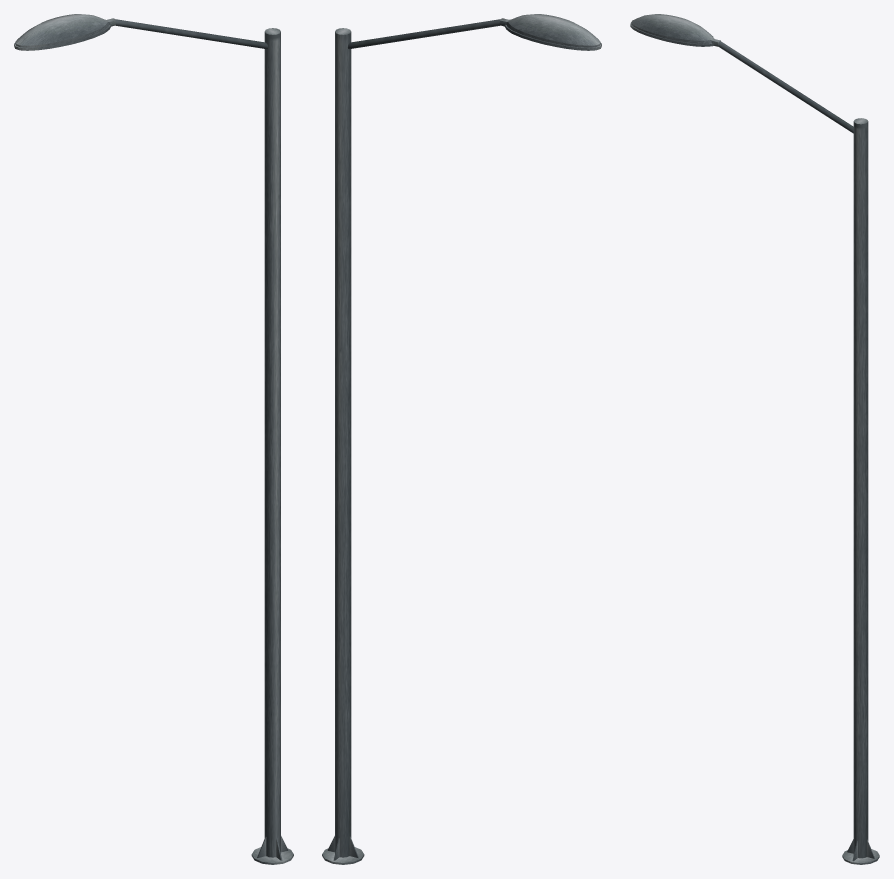
3 views of the same model, side by side, from view 1: azimuth 30°, elevation 25°; view 2: azimuth 150°, elevation 25°; view 3: azimuth 330°, elevation 25° (orthographic). The views are drawn at different scales.
Visible parts, largest first — view 1: MainBuilding; view 2: MainBuilding; view 3: MainBuilding.
Boxes of the visible parts, bbox=[...] form: MainBuilding: bbox=[14, 14, 293, 864]; MainBuilding: bbox=[322, 14, 601, 864]; MainBuilding: bbox=[630, 14, 879, 864].
Size of the model in its own units: 2.72 by 8.38 by 0.3592.
1 material, 1 textured.
